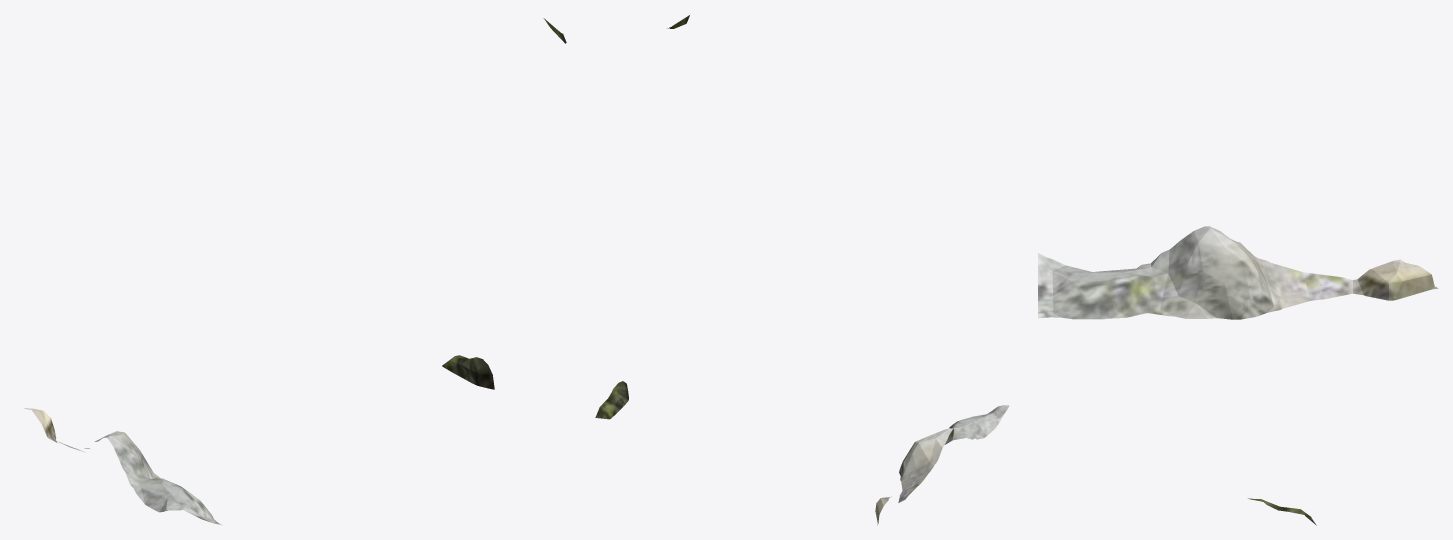
3 views of the same model, side by side, from view 1: azimuth 30°, elevation 25°; view 2: azimuth 150°, elevation 25°; view 3: azimuth 270°, elevation 25° (orthographic). The views are drawn at different scales.
Bounding box in the file's own units: 2.95 × 2.95 × 2.1.
1 material, 1 textured.
